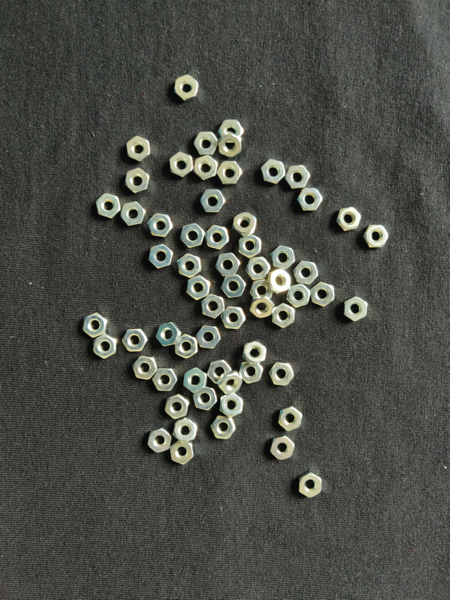nut: (175, 75, 200, 102), (126, 136, 151, 163), (216, 161, 243, 186), (169, 152, 194, 178), (125, 168, 150, 194), (96, 193, 121, 219), (121, 202, 147, 227), (148, 213, 174, 238), (267, 269, 292, 295), (93, 334, 118, 360), (173, 418, 198, 444), (269, 363, 296, 387), (261, 159, 286, 184), (194, 155, 219, 180), (205, 225, 230, 250), (149, 244, 174, 269), (271, 246, 296, 271), (201, 294, 226, 319), (250, 294, 275, 319), (83, 313, 108, 338), (218, 370, 243, 395), (211, 415, 236, 440), (278, 406, 303, 431), (271, 436, 296, 461), (285, 165, 311, 189), (200, 189, 226, 213), (336, 207, 362, 231), (181, 223, 205, 249), (178, 253, 202, 279), (215, 253, 241, 277), (293, 261, 319, 285), (187, 275, 211, 301), (156, 323, 182, 347), (132, 356, 158, 380), (165, 394, 189, 420), (148, 427, 172, 453), (219, 131, 242, 158), (184, 367, 207, 394), (194, 132, 219, 156), (233, 212, 257, 237), (311, 282, 335, 307), (344, 297, 368, 322), (221, 306, 246, 330), (153, 368, 178, 392), (122, 329, 148, 352), (300, 472, 323, 498), (287, 284, 311, 308), (243, 341, 267, 365), (208, 360, 232, 384), (170, 441, 194, 465), (298, 188, 323, 211), (364, 225, 389, 248), (239, 234, 262, 259), (246, 257, 271, 280), (222, 275, 247, 298), (273, 303, 296, 328), (196, 326, 221, 349), (175, 334, 198, 359), (193, 388, 218, 411), (220, 393, 243, 418), (238, 362, 264, 384), (219, 119, 245, 137), (250, 280, 274, 299)
